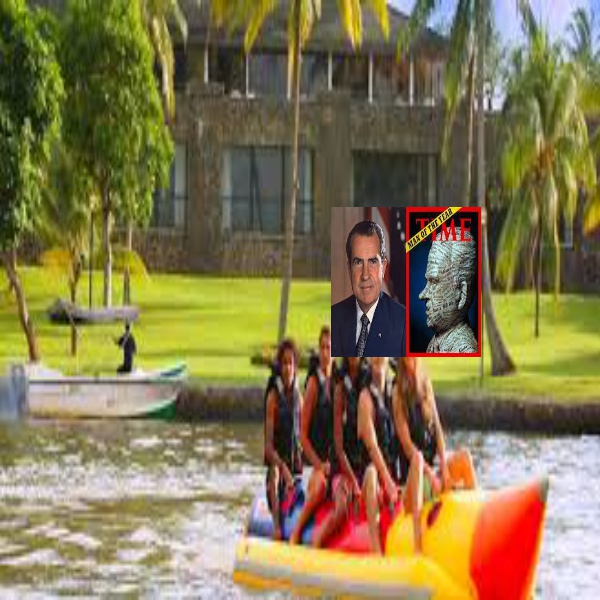time_cover: (401, 191, 491, 358)
